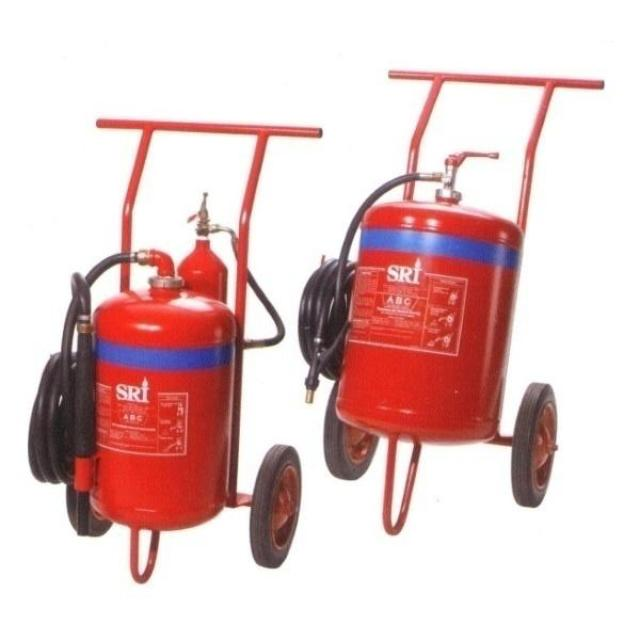fire_extinguisher: (19, 186, 251, 538), (294, 143, 528, 449)
